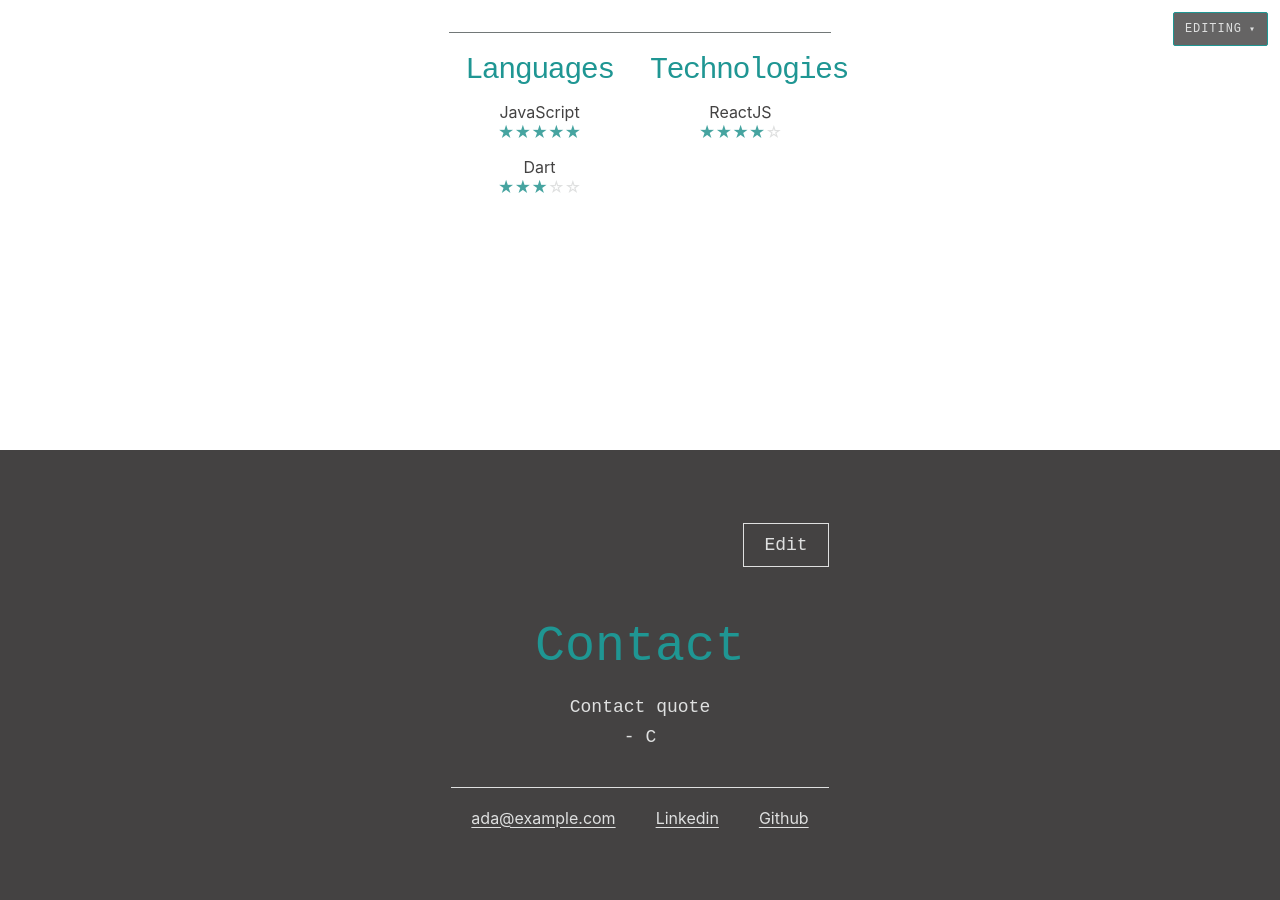
Scenario: edit flow: editing the remaining profile fields › swaps each contact link's anchor for a field holding its URL
(page scrolled)
What coordinates should you click on to do the following:
click the button with class "editcontrol"
I would click on:
 (786, 544)
Its box is top-left (743, 522), bottom-right (829, 566).
(page scrolled)
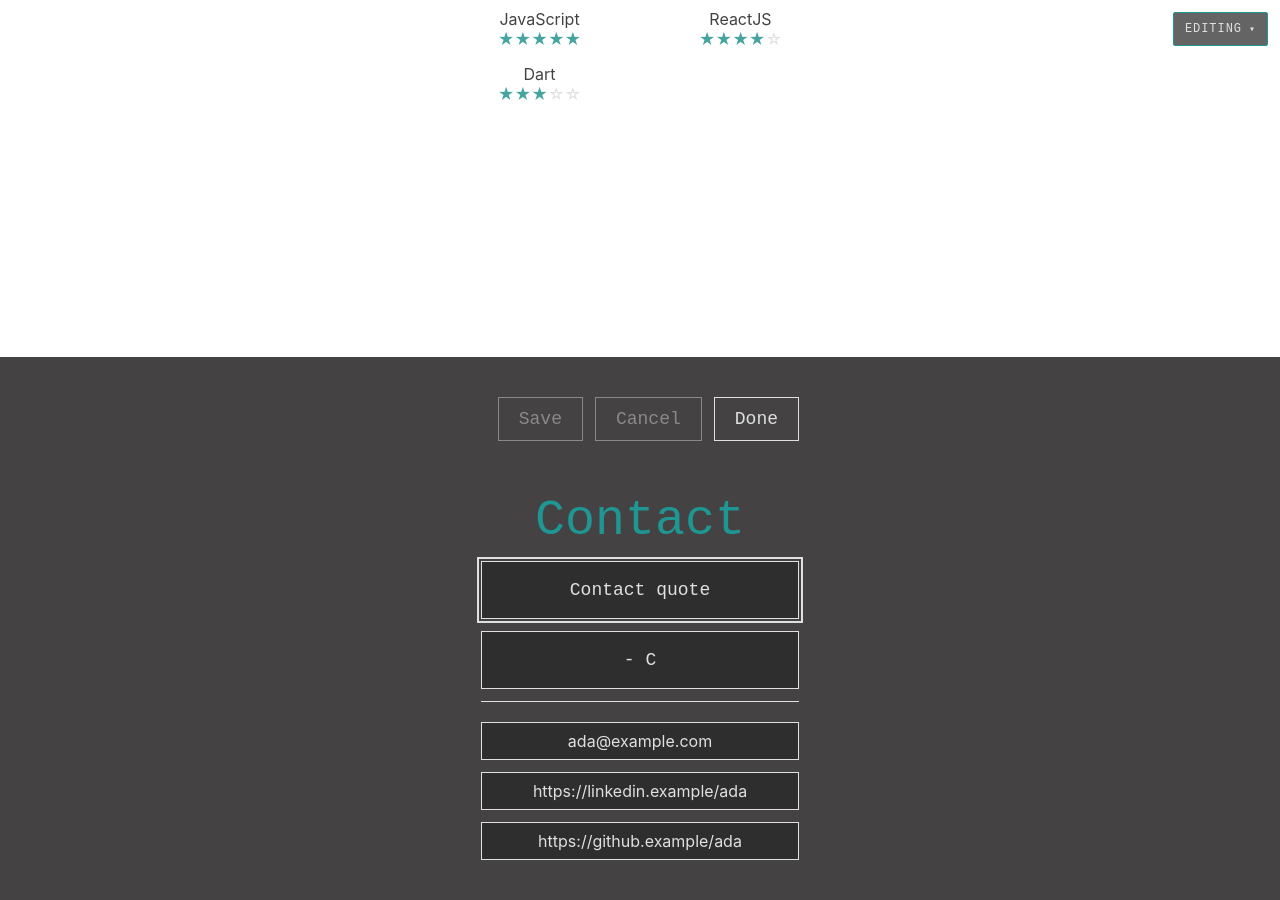
Expected: the text box with id "contact-emailEdit" holds "ada@example.com", top-left (481, 722), bottom-right (799, 760)
Expected: the text box with id "contact-linkedinEdit" holds "https://linkedin.example/ada", top-left (481, 772), bottom-right (799, 810)
Expected: the text box with id "contact-githubEdit" holds "https://github.example/ada", top-left (481, 822), bottom-right (799, 860)
